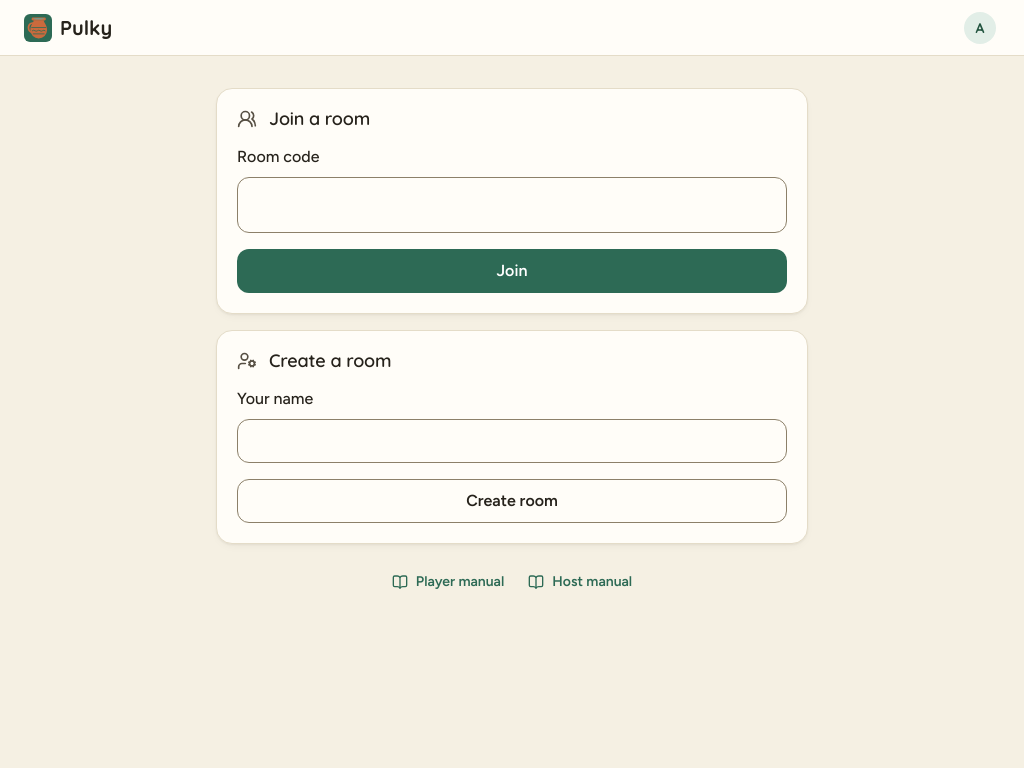
Test case: Join a room (criterion 8) › shows the reason verbatim as a danger alert when the room is full (worked example)
Type "abc234" into the field labelled "Room code" at (512, 205), box [237, 177, 787, 233]
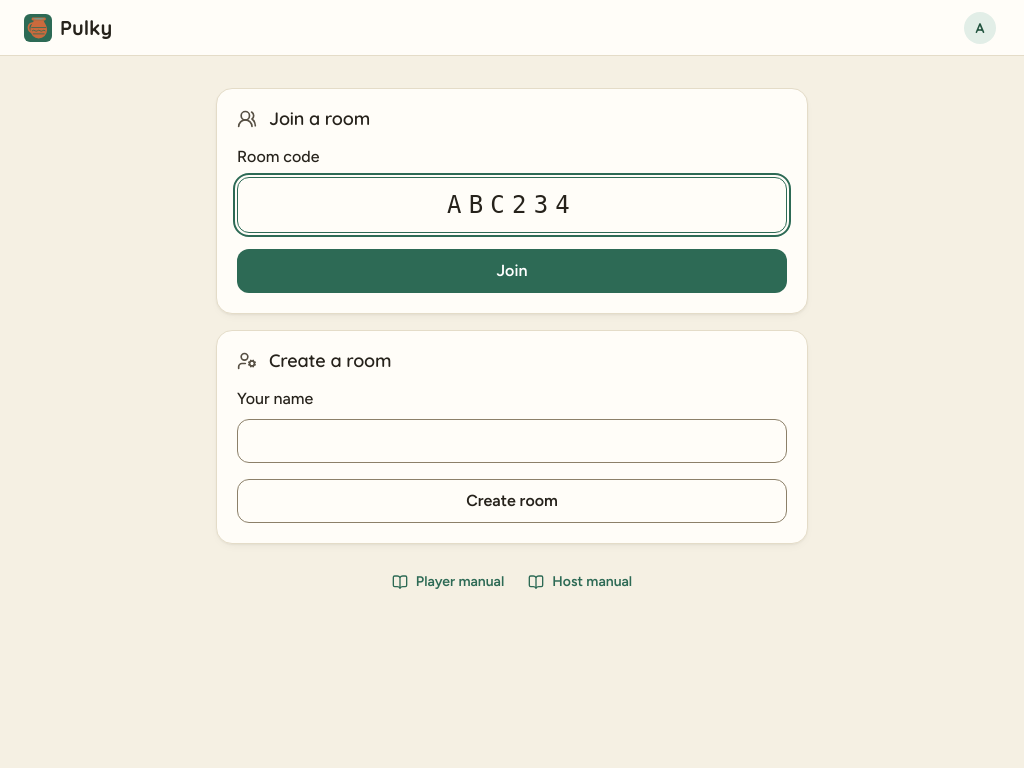
Click the button "Join" at (512, 271), box [237, 249, 787, 293]
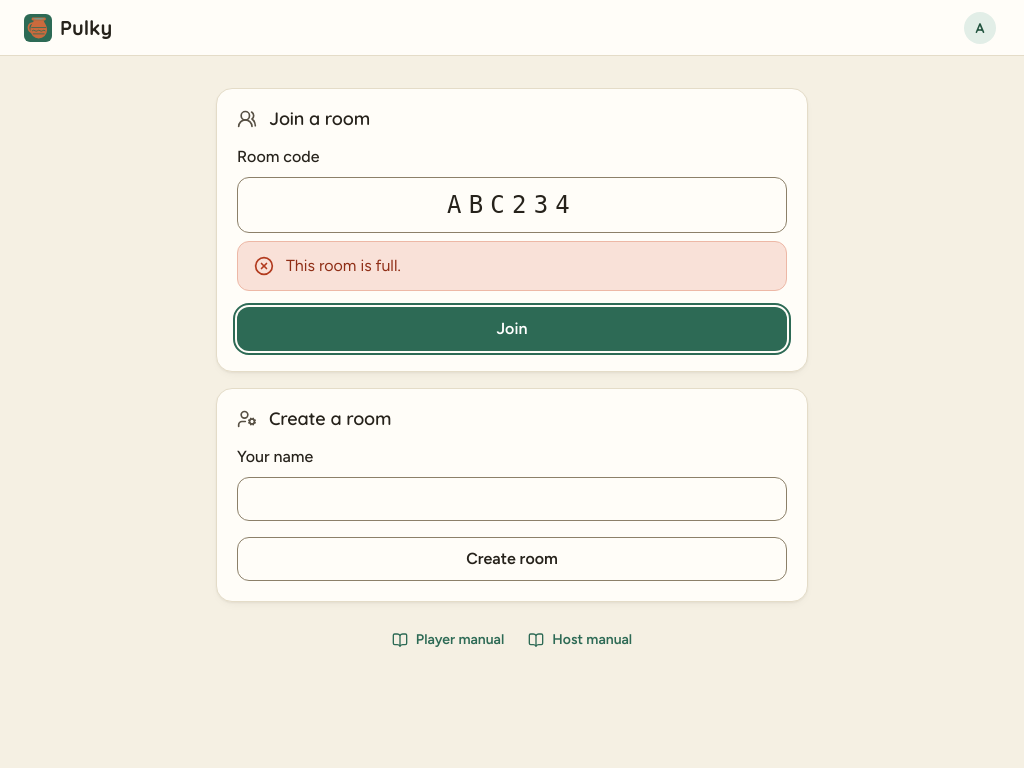
Expected: the text "This room is full." is shown, [286, 254, 401, 278]
Expected: the message reads "This room is full.", [286, 256, 401, 275]
